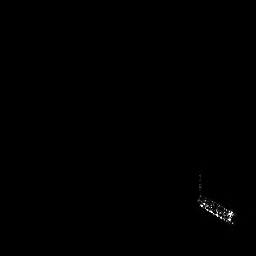ship: (194, 171, 234, 225)
